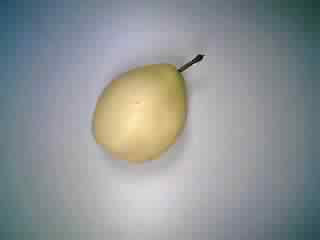pear: (79, 51, 211, 167)
